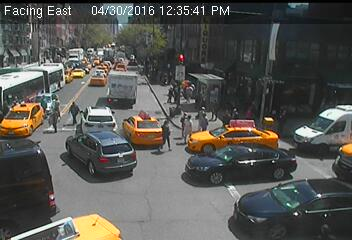neg: (53, 208, 77, 239), (174, 54, 187, 71), (225, 151, 236, 166), (201, 69, 211, 82), (21, 77, 30, 89), (48, 71, 56, 83)
pos: (150, 117, 179, 155), (271, 107, 297, 141), (64, 99, 88, 131), (163, 85, 178, 105)
